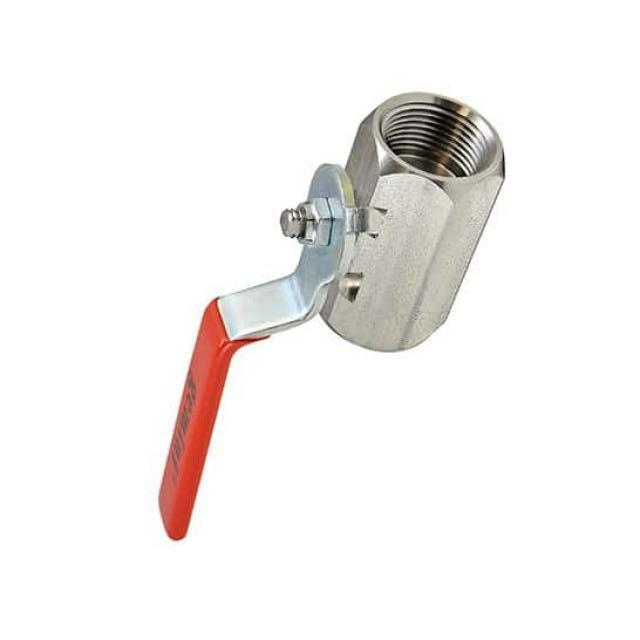opened_valve: (153, 90, 507, 542)
